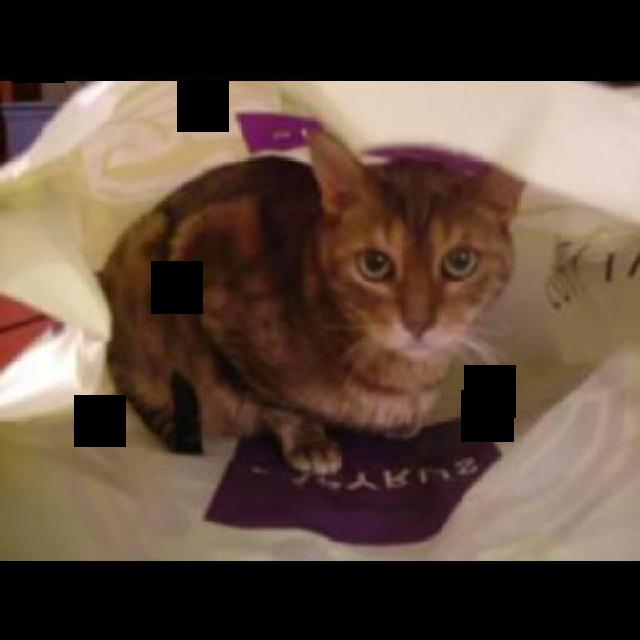unauthorized: (94, 126, 526, 477)
